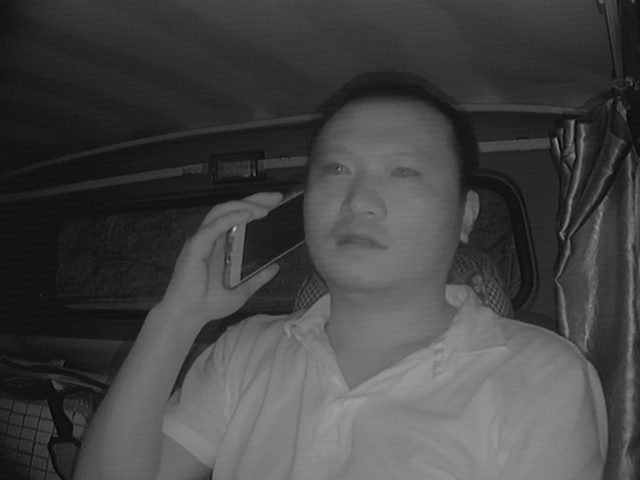hand: (182, 193, 284, 317)
